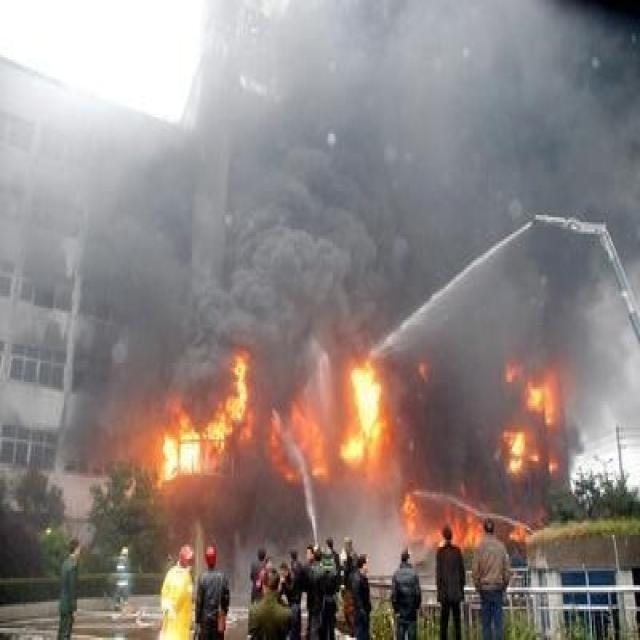Fire: (160, 353, 251, 480), (338, 363, 388, 463), (268, 406, 326, 480), (426, 508, 484, 552), (525, 377, 557, 425), (506, 430, 524, 473), (402, 492, 418, 537), (508, 523, 526, 542)
Smoke: (1, 2, 640, 606)
